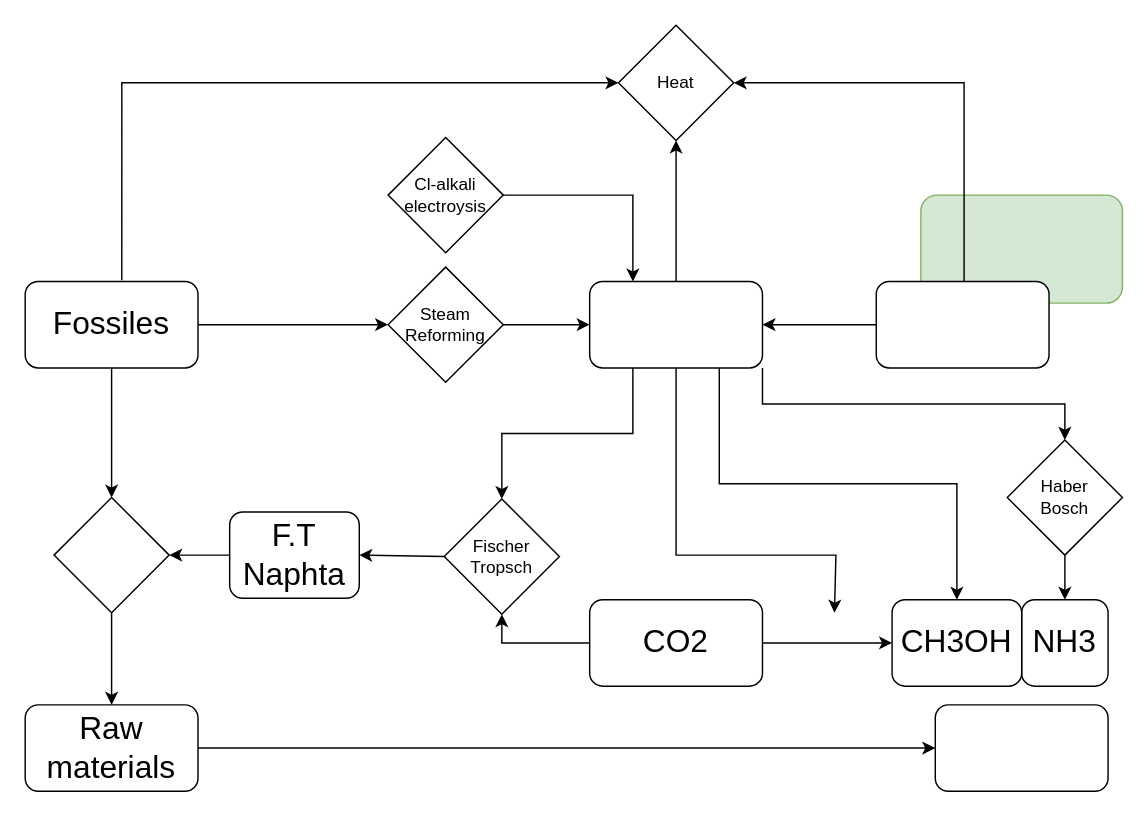
This 1148x816 diagram has some shape labels left out. Here are the shapes that lost their labels. From the top down, the centre of each, then its label:
At [1020,248]: "Renewables".
At [675,324]: "H2".
At [962,324]: "Power".
At [111,554]: "Steam cracking".
At [1021,747]: "chemicals".
